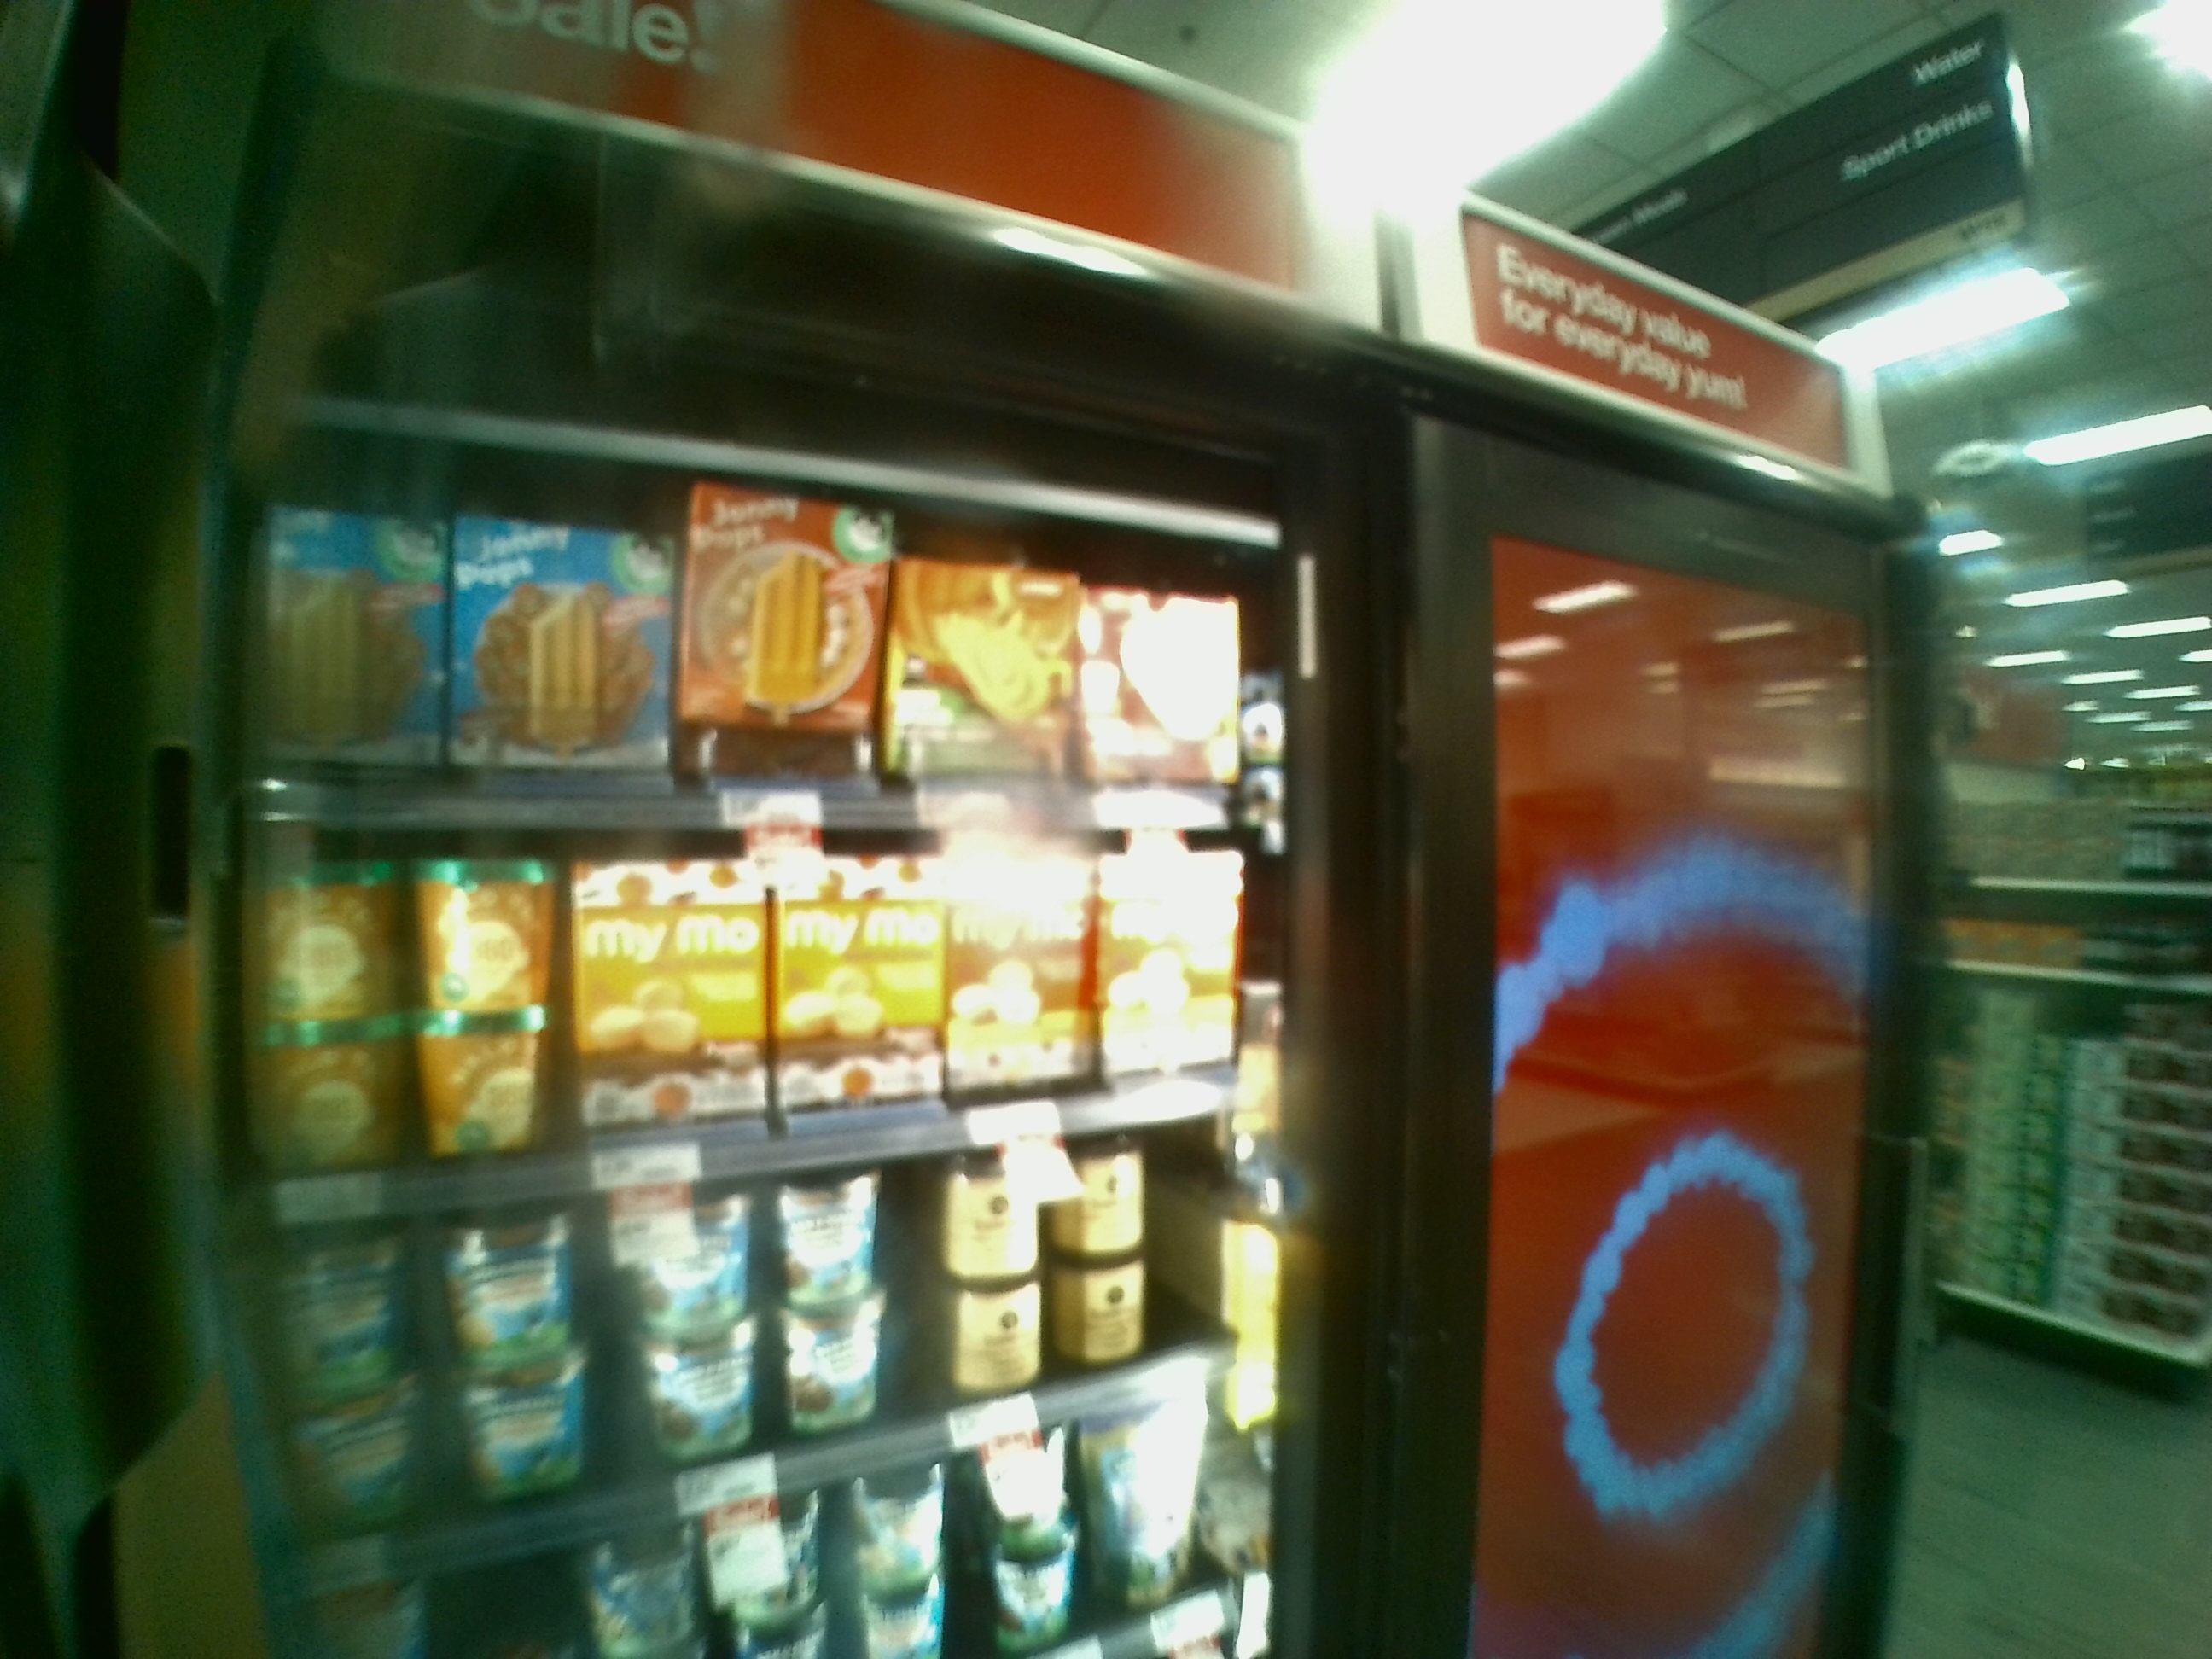shelf: (211, 788, 1298, 1182), (249, 448, 1278, 826), (260, 1176, 1258, 1554)
